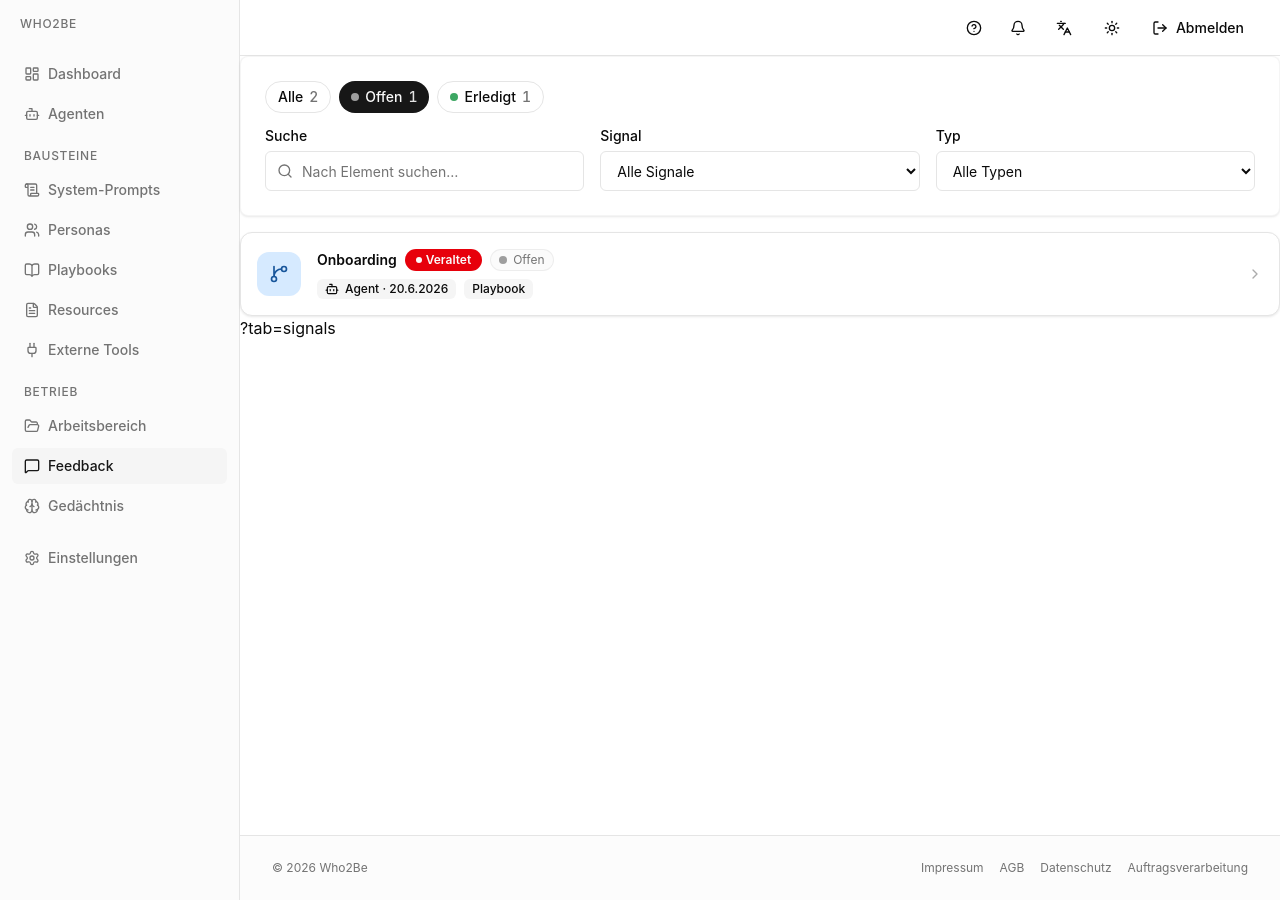
Test: FeedbackInbox › schreibt den Status per replace in die URL und lässt „tab“ stehen
The image size is (1280, 900).
Expected: the link "Onboarding" is shown, [317, 250, 397, 270]
Step 1. Click the button "Alle 2" → [298, 97], box [265, 81, 331, 113]
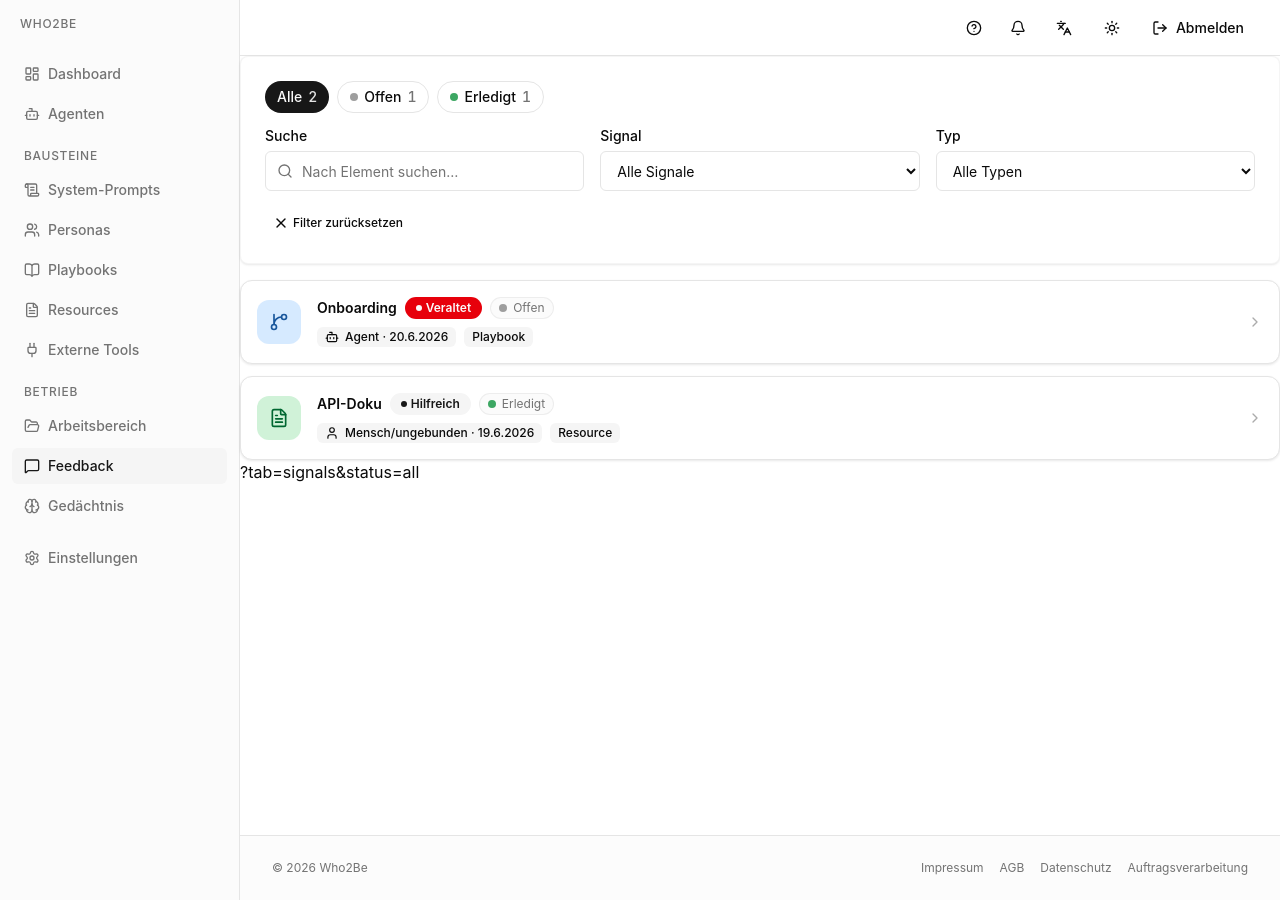
Expected: the link "API-Doku" is shown, [317, 394, 382, 414]
Expected: the text with test id "location" reads "?tab=signals&status=all", [240, 462, 419, 482]
// Zurück auf den Standard: der Parameter verschwindet.
Step 2. Click the button "Offen 1" → [383, 97], box [337, 81, 430, 113]
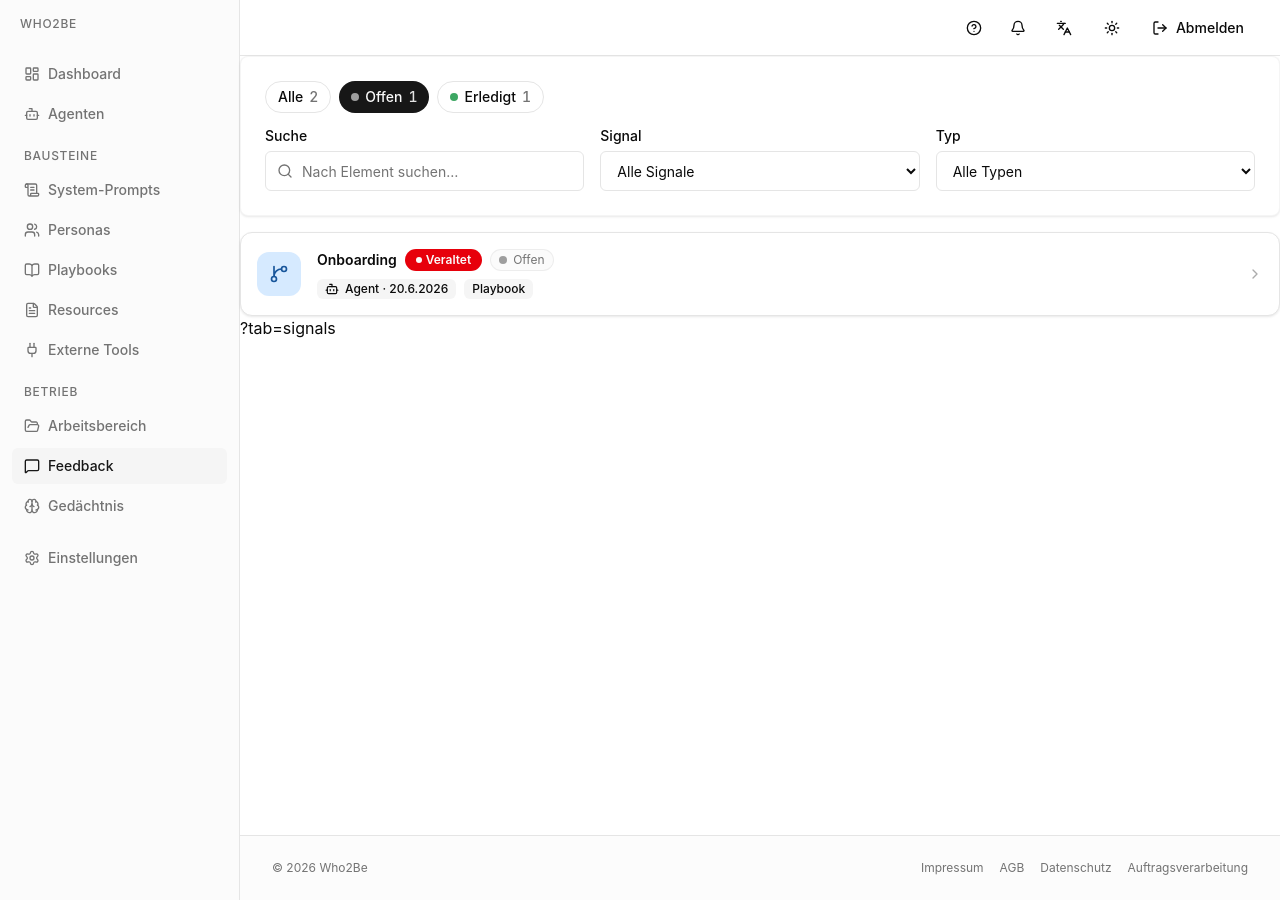
Expected: the text with test id "location" reads "?tab=signals", [240, 318, 336, 338]
